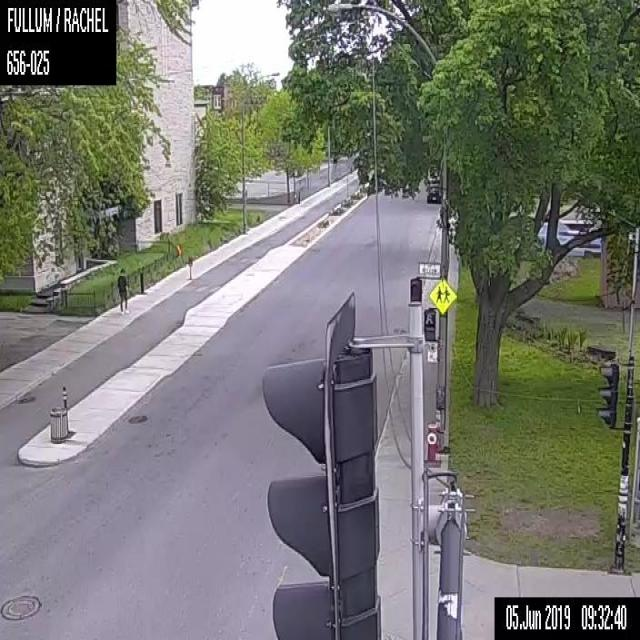pedestrian: (116, 268, 128, 313)
vehicle: (426, 187, 440, 202), (426, 176, 440, 189)
